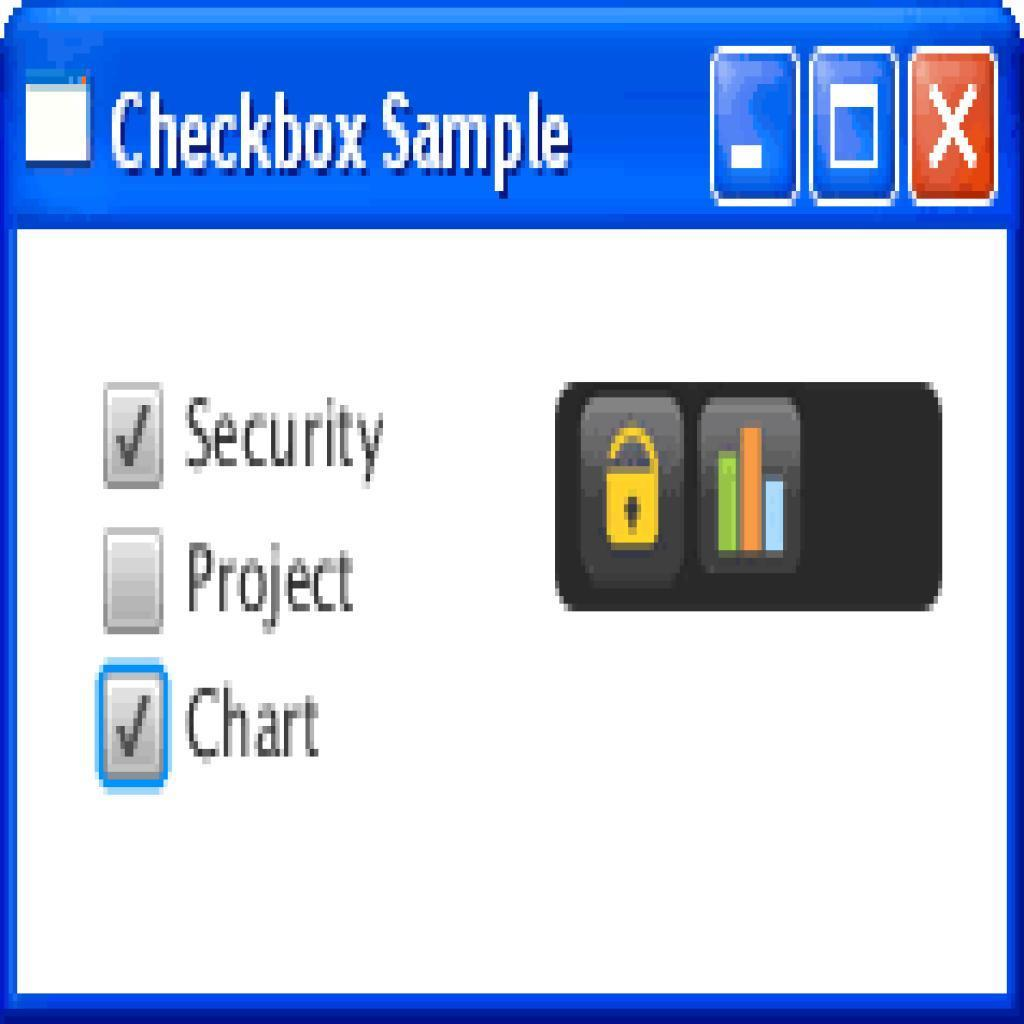checkbox: (102, 663, 174, 786), (102, 379, 168, 496), (101, 526, 167, 637)
